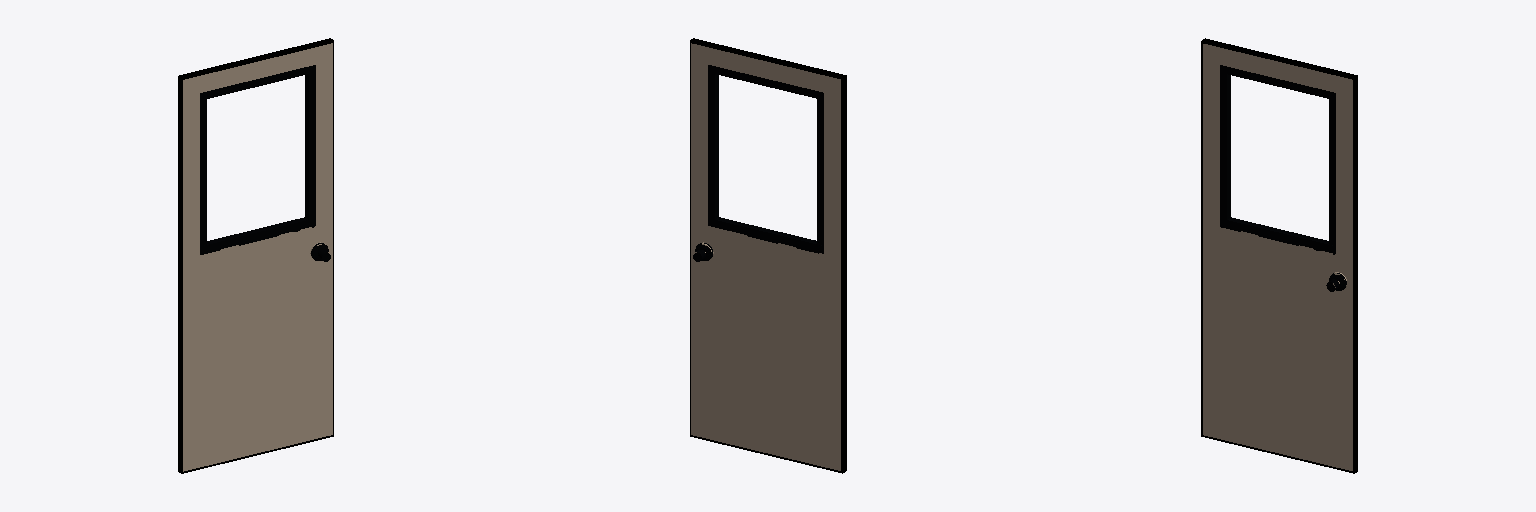
3 views of the same model, side by side, from view 1: azimuth 30°, elevation 25°; view 2: azimuth 150°, elevation 25°; view 3: azimuth 330°, elevation 25° (orthographic).
Visible parts, largest first — view 1: Cylinder.003_Cylinder.008; view 2: Cylinder.003_Cylinder.008; view 3: Cylinder.003_Cylinder.008.
Part boxes in pixels (x1,y1,x2,y2): Cylinder.003_Cylinder.008: (178,38,333,473); Cylinder.003_Cylinder.008: (690,38,846,473); Cylinder.003_Cylinder.008: (1201,38,1357,473).
Size of the model in its own units: 0.8301 by 2.05 by 0.1852.
3 materials, 1 textured.